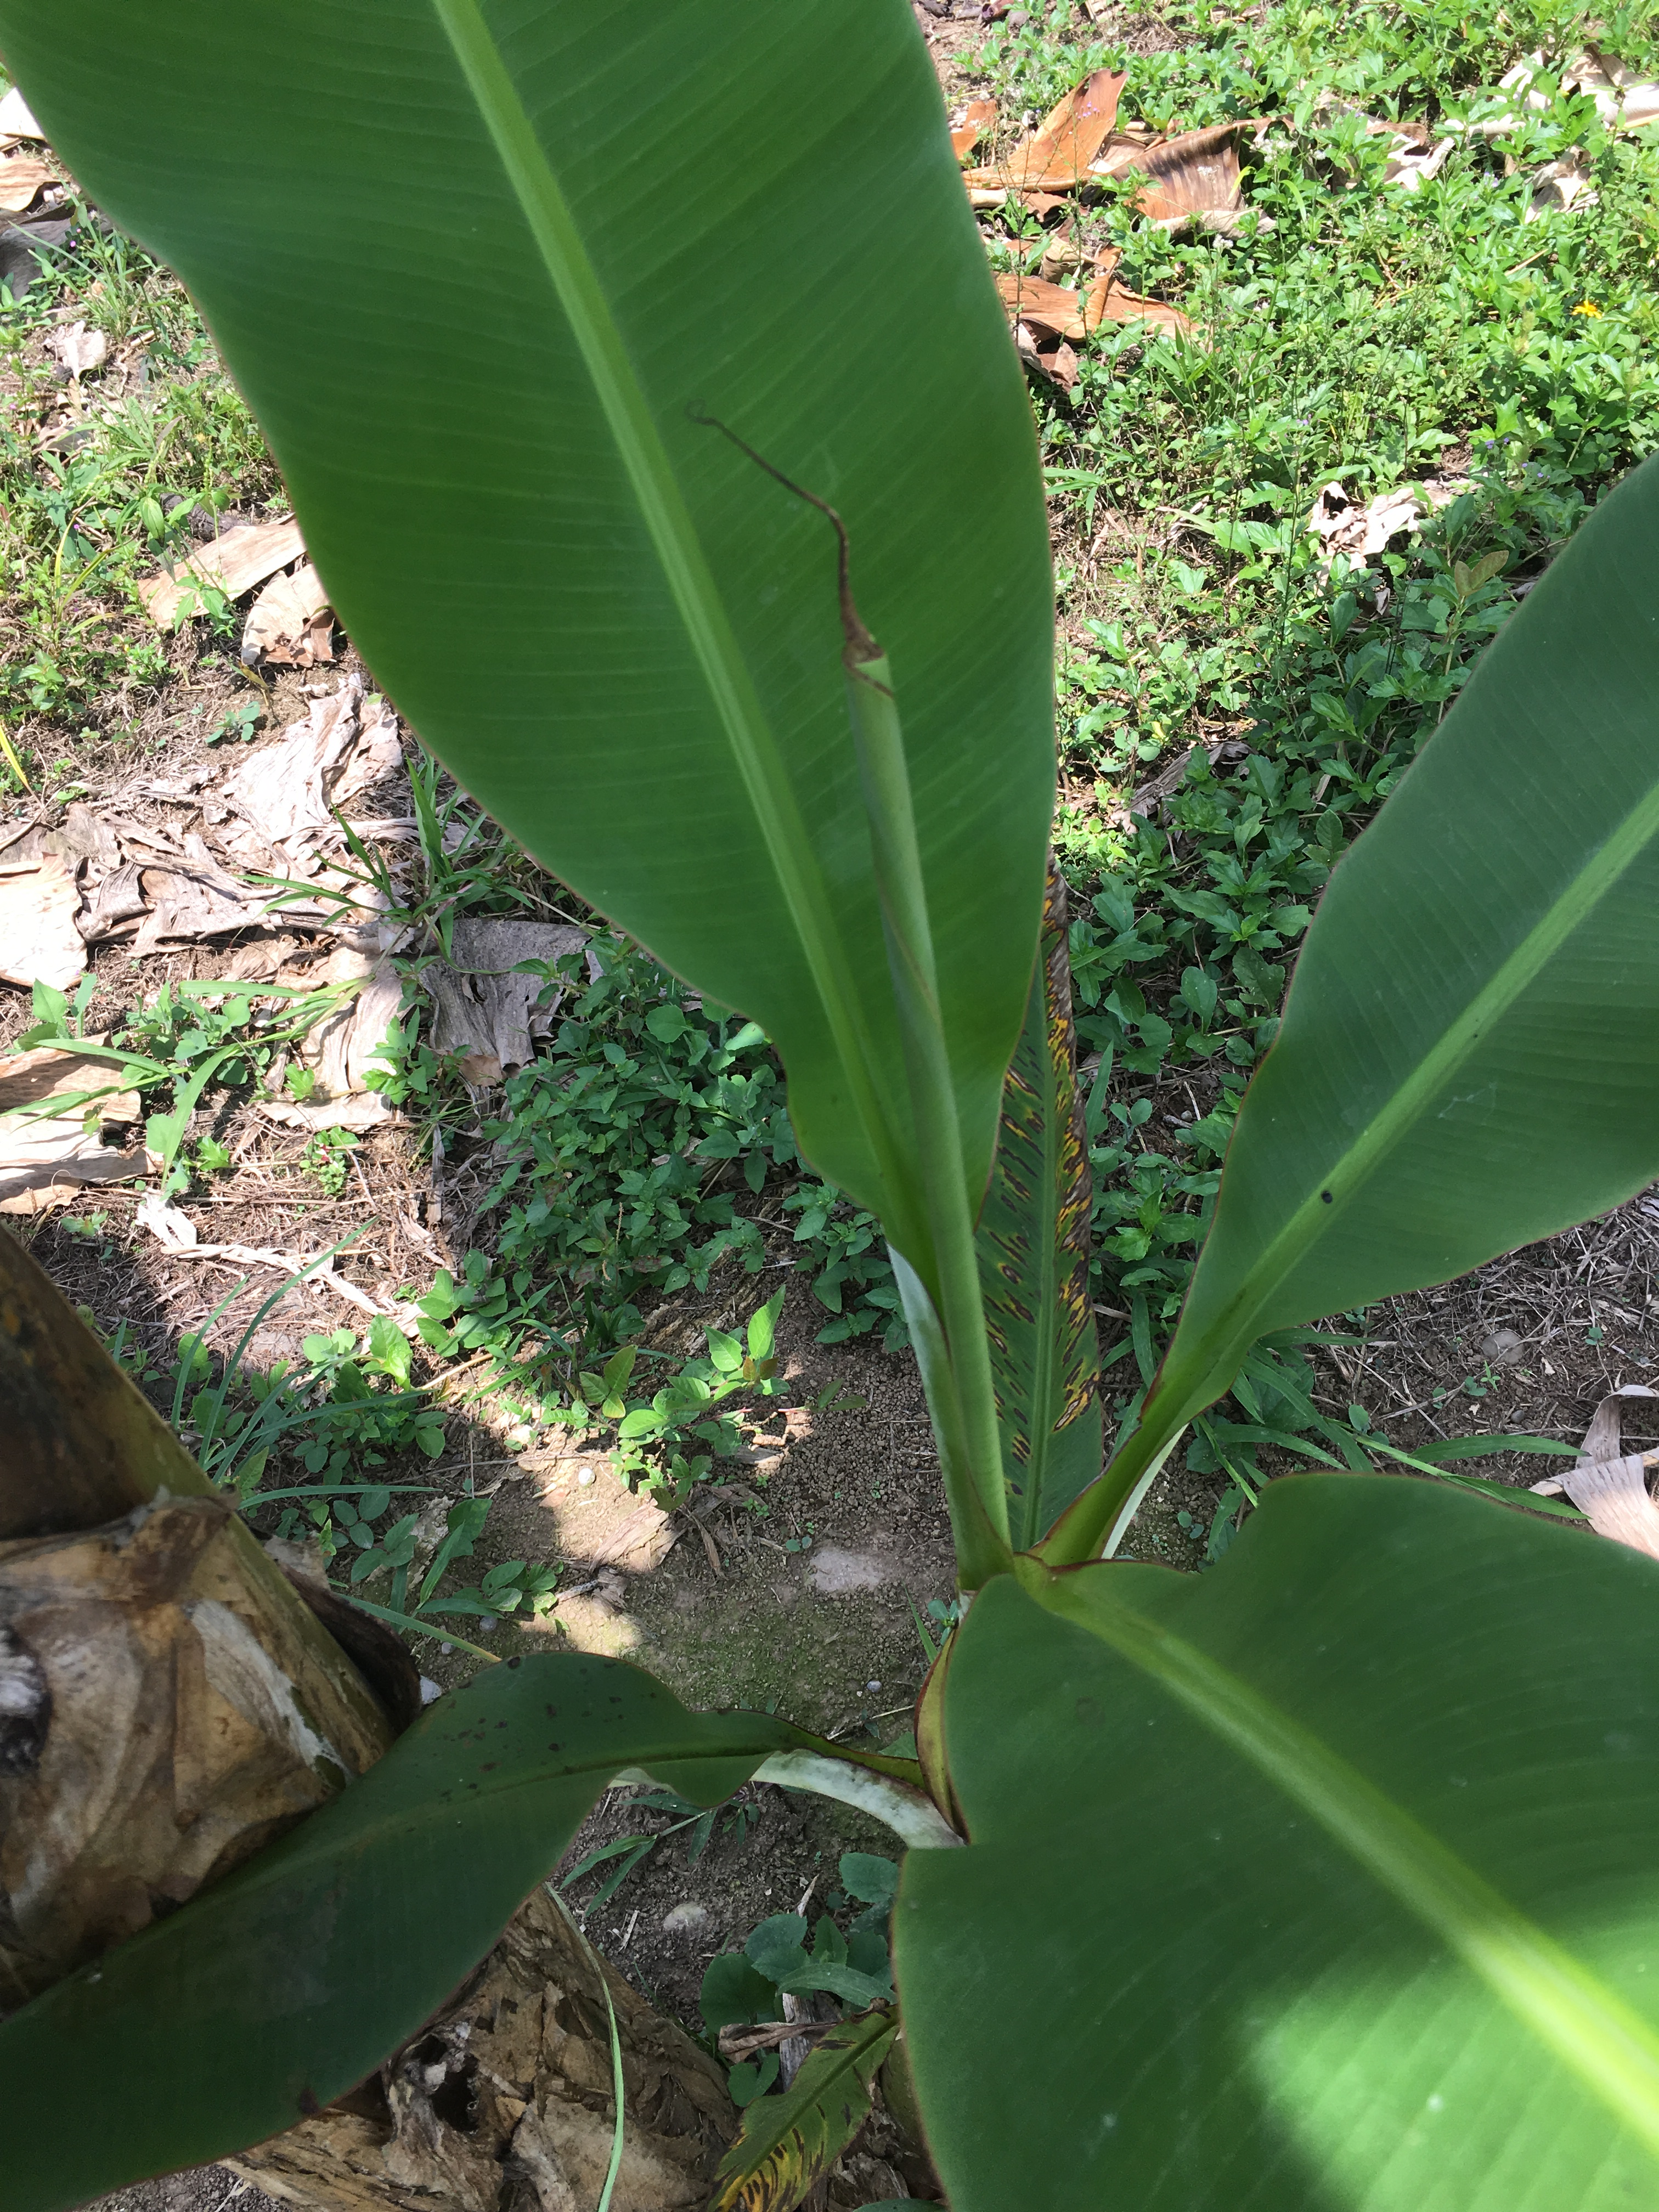candleleafs: (676, 401, 1016, 1580)
